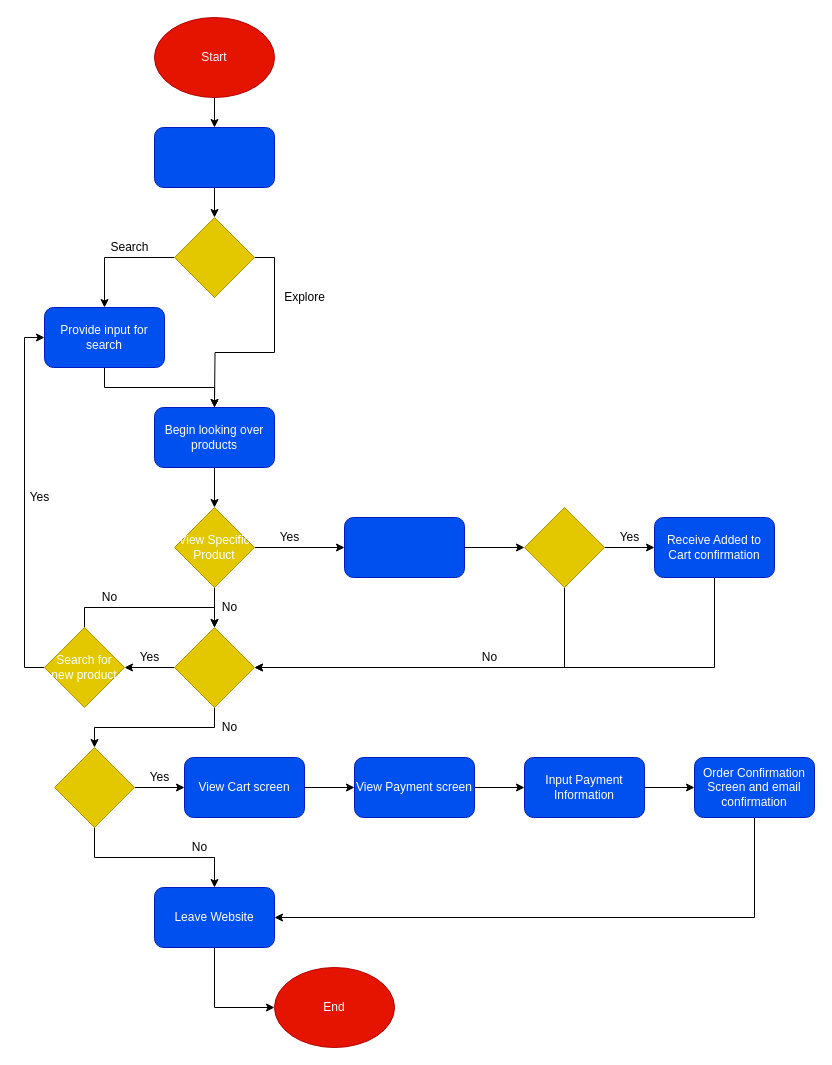
This 832x1065 diagram has some shape labels left out. The centre of each missing label's shape, as x and y in pixels:
"Add to cart" goes at pixel 564 547.
"Checkout" goes at pixel 94 787.
"Continue Shopping" goes at pixel 214 667.
"Enter Website" goes at pixel 214 157.
"Product Webpage opens" goes at pixel 404 547.
"Search or Explore products" goes at pixel 214 257.
